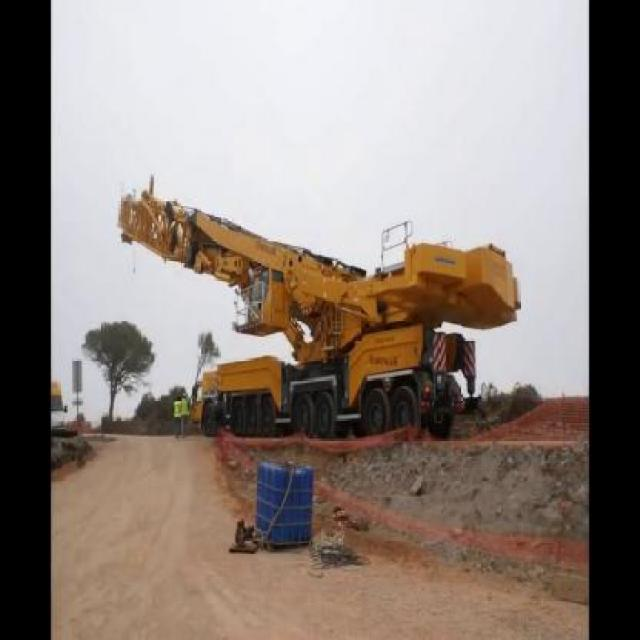Mobile Crane: (120, 187, 518, 433)
